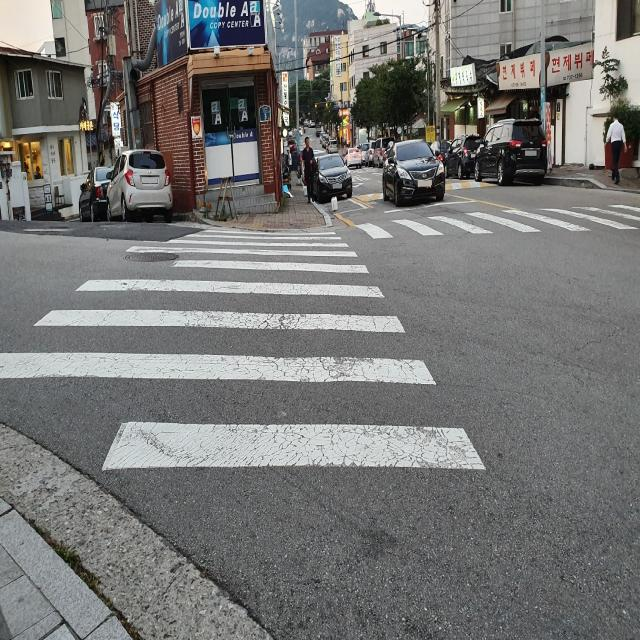횡단보도: (0, 229, 486, 470), (354, 196, 639, 244)
